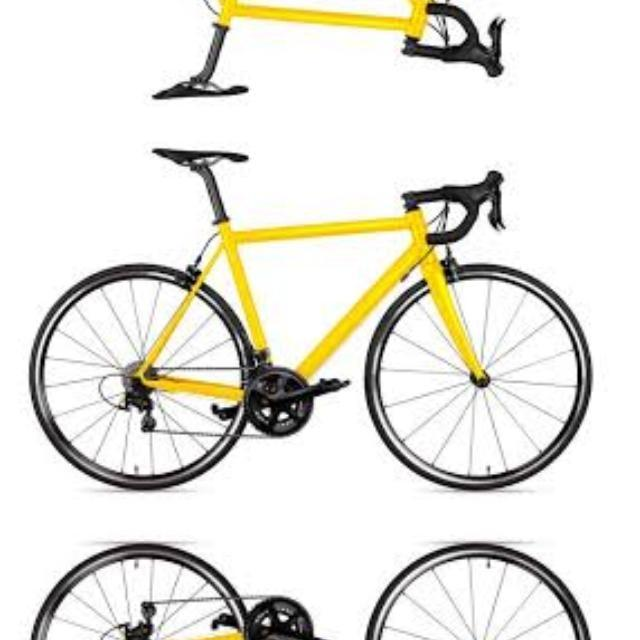obstacle: (21, 131, 606, 497), (21, 0, 606, 115), (21, 537, 606, 640)
